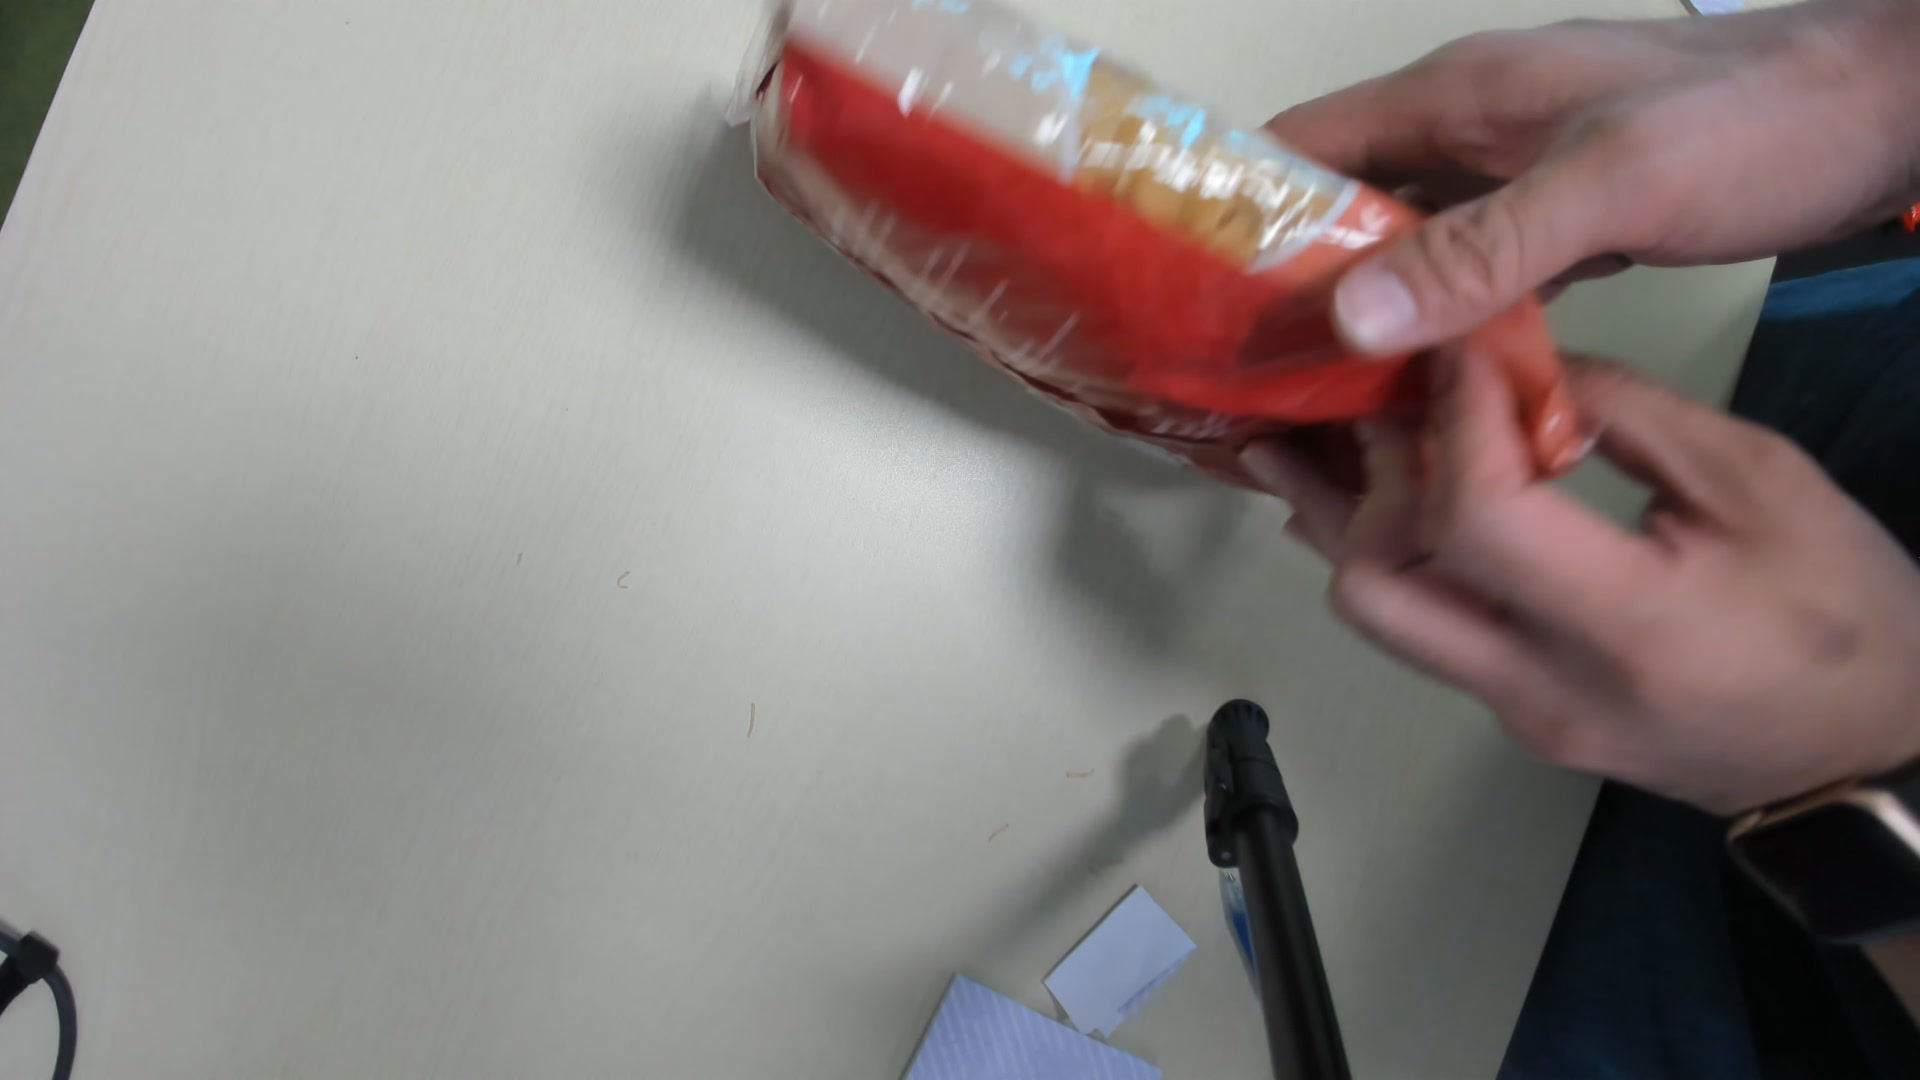Pasta_500-599g_Halal_NonHealthy: (736, 1, 1592, 527)
